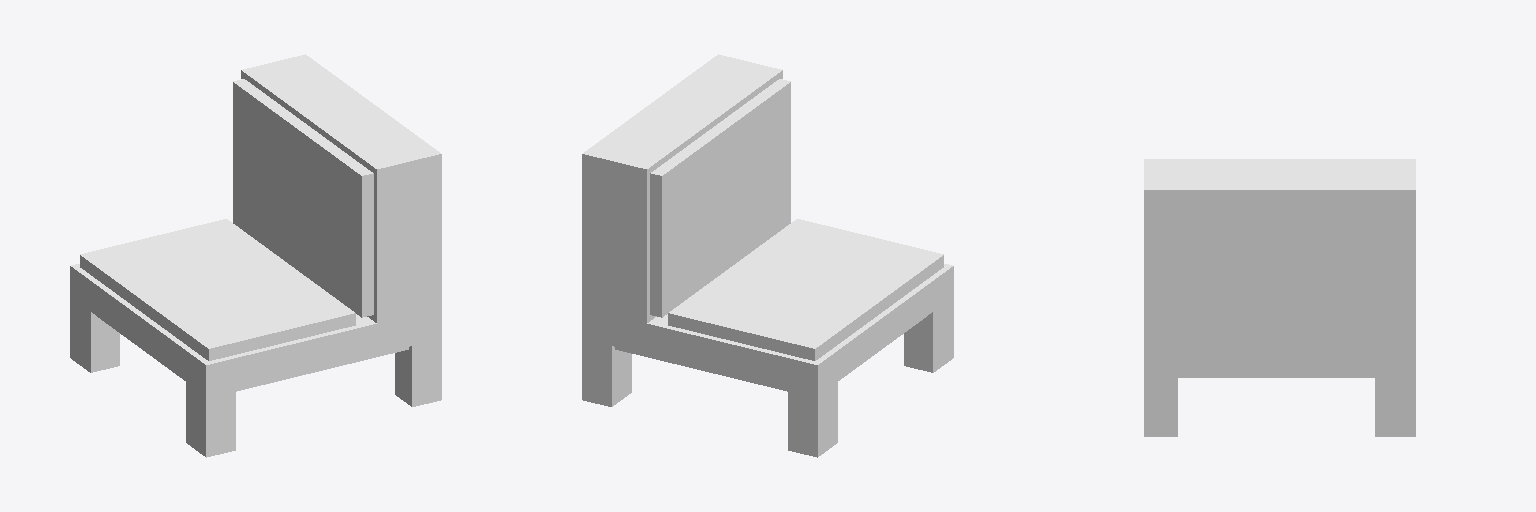
Rendered from Sofa_type1.obj.
3 renders of one model, left to right at view 1: azimuth 30°, elevation 25°; view 2: azimuth 150°, elevation 25°; view 3: azimuth 270°, elevation 25°, orthographic.
Visible parts, largest first — view 1: Sofa_type1; view 2: Sofa_type1; view 3: Sofa_type1.
Part boxes in pixels (x1,y1,x2,y2): Sofa_type1: (70, 54, 441, 457); Sofa_type1: (582, 54, 953, 457); Sofa_type1: (1144, 159, 1415, 436).
Bounding box in the file's own units: 40 × 40 × 40.